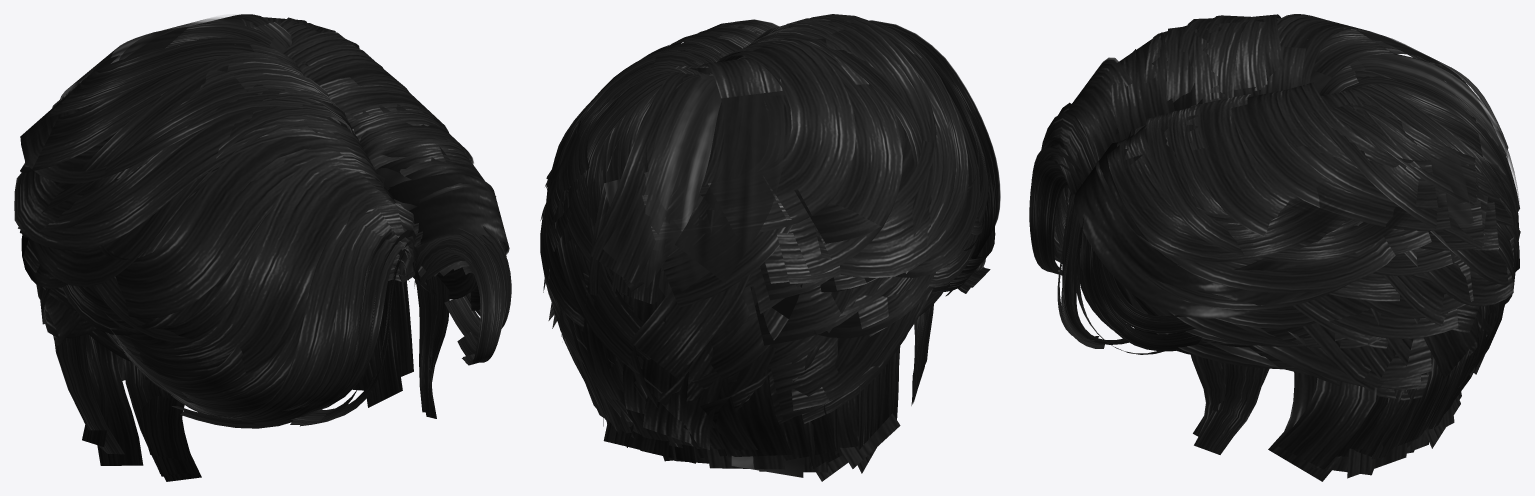
Rendered from Oval_Wavy_03.glb.
The picture shows the model from 3 angles, left to right: view 1: azimuth 30°, elevation 25°; view 2: azimuth 150°, elevation 25°; view 3: azimuth 270°, elevation 25°; orthographic projection. The views are drawn at different scales.
Visible parts, largest first — view 1: oval wavy 03 side part; view 2: oval wavy 03 side part; view 3: oval wavy 03 side part.
Part boxes in pixels (left/top/right/bottom): oval wavy 03 side part: left=14, top=14, right=511, bottom=481; oval wavy 03 side part: left=540, top=14, right=1000, bottom=481; oval wavy 03 side part: left=1029, top=14, right=1520, bottom=481.
Size of the model in its own units: 0.2327 by 0.2376 by 0.2748.
Materials: 1 (1 with a texture image).
